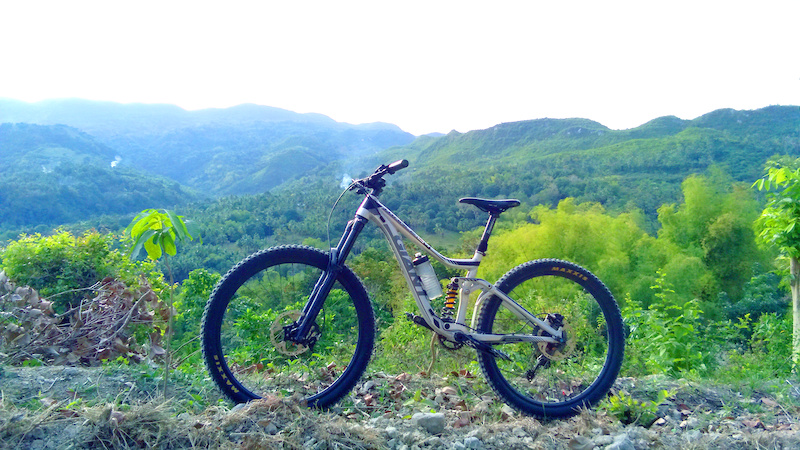bike: (204, 161, 624, 423)
tree branches: (18, 299, 143, 356)
